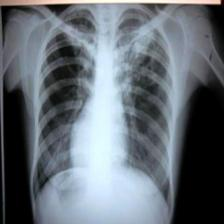tuberculosis: (29, 6, 176, 211)
